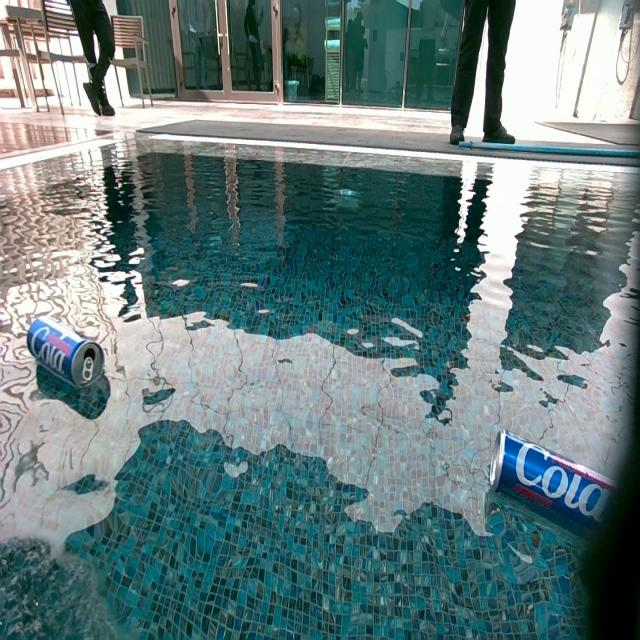Cans: (490, 431, 622, 545), (28, 321, 117, 392)
